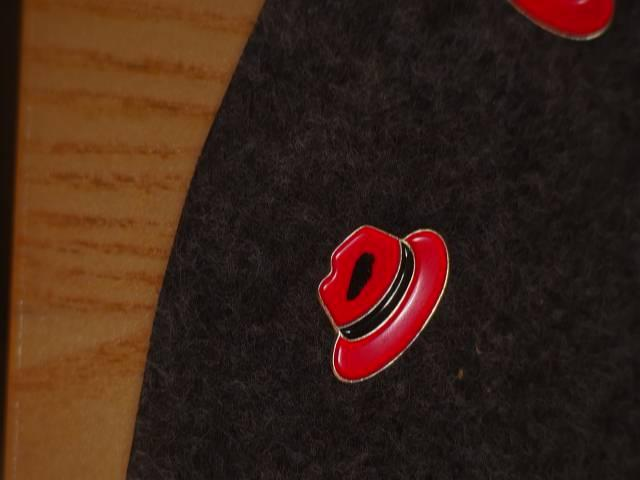Red-Hat: (296, 192, 472, 403)
Scratch: (339, 240, 389, 305)
